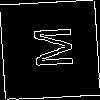M: (24, 25, 74, 70)
